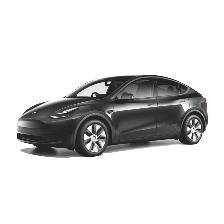EV: (18, 75, 213, 158)
